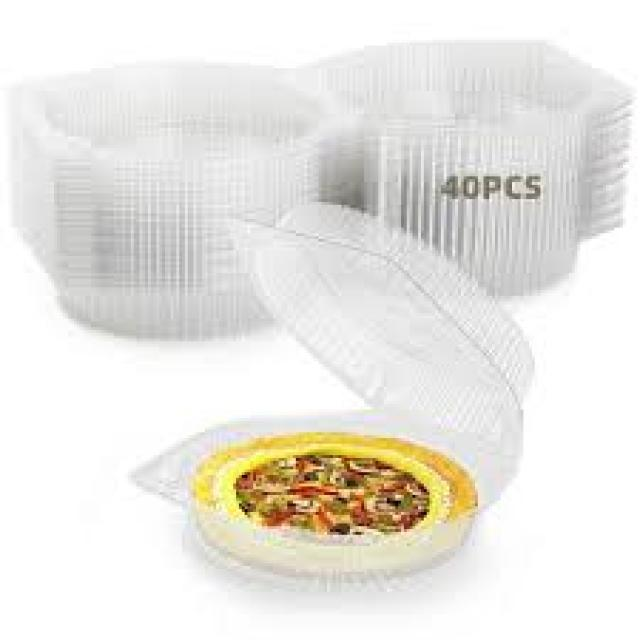disposable: (145, 392, 519, 618)
